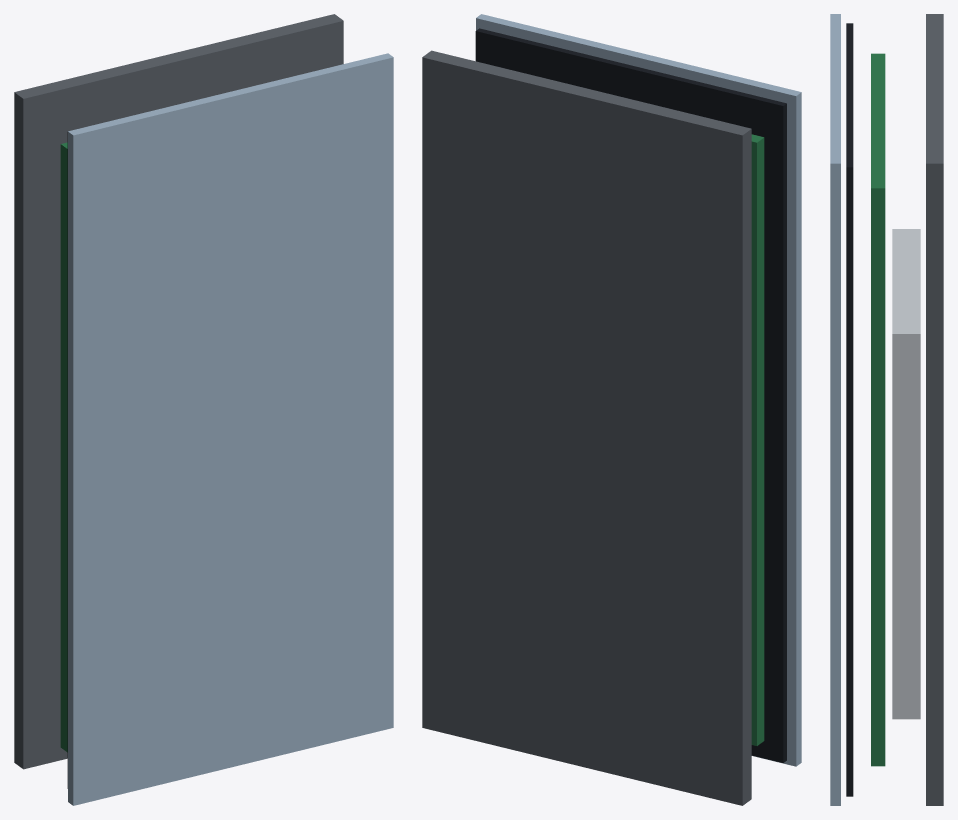
File: stack.glb
The picture shows the model from 3 angles, left to right: view 1: azimuth 30°, elevation 25°; view 2: azimuth 150°, elevation 25°; view 3: azimuth 270°, elevation 25°; orthographic projection. The views are drawn at different scales.
Visible parts, largest first — view 1: glass, back, board; view 2: back, display, glass, board; view 3: back, battery, board, glass, display.
Part boxes in pixels (x1,y1,x2,y2): glass: (68, 53, 393, 805); back: (14, 14, 343, 769); board: (60, 142, 67, 752); back: (422, 50, 751, 805); display: (475, 28, 786, 762); glass: (476, 14, 801, 766); board: (751, 134, 764, 745); back: (926, 14, 943, 805); battery: (892, 229, 920, 719); board: (871, 53, 885, 766); glass: (830, 14, 840, 805); display: (846, 23, 853, 796).
Size of the model in its own units: 1 by 2 by 0.32.
